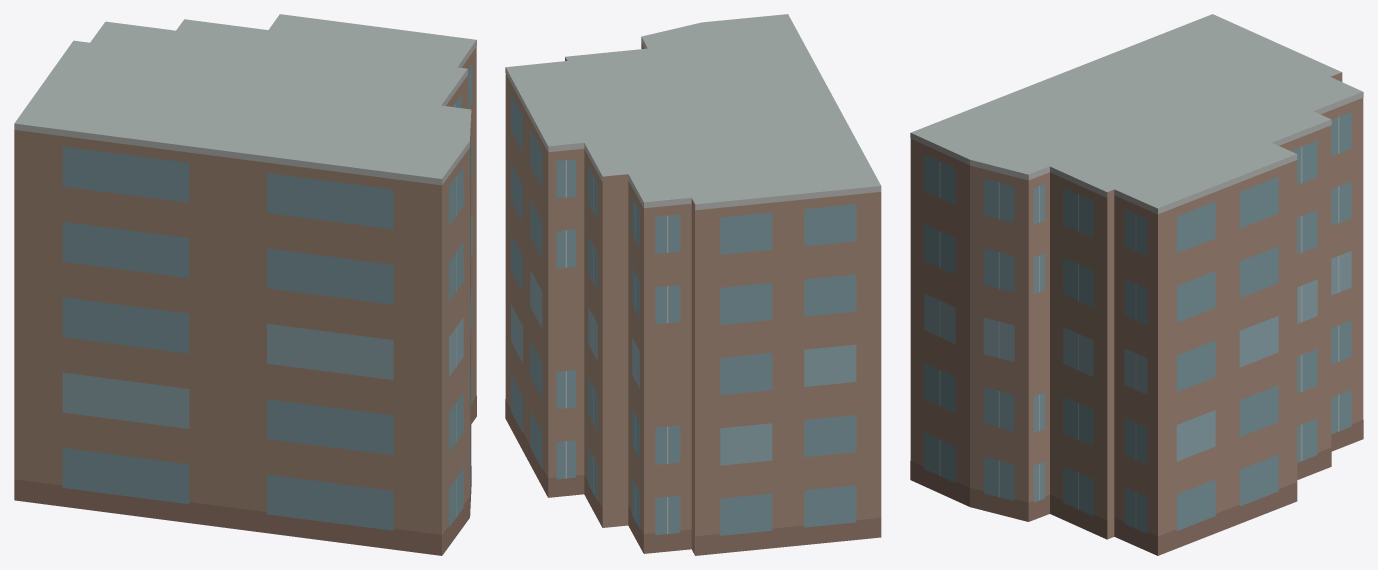
The model's file is survey-upis-32978292.glb.
The picture shows the model from 3 angles, left to right: view 1: azimuth 30°, elevation 25°; view 2: azimuth 150°, elevation 25°; view 3: azimuth 270°, elevation 25°; orthographic projection. The views are drawn at different scales.
Visible parts, largest first — view 1: survey-upis-32978292.tmp; view 2: survey-upis-32978292.tmp; view 3: survey-upis-32978292.tmp.
Part boxes in pixels (<box>): survey-upis-32978292.tmp: <box>14,14,476,555</box>; survey-upis-32978292.tmp: <box>505,14,881,555</box>; survey-upis-32978292.tmp: <box>910,14,1363,555</box>.
Size of the model in its own units: 17.61 by 14.65 by 17.32.
